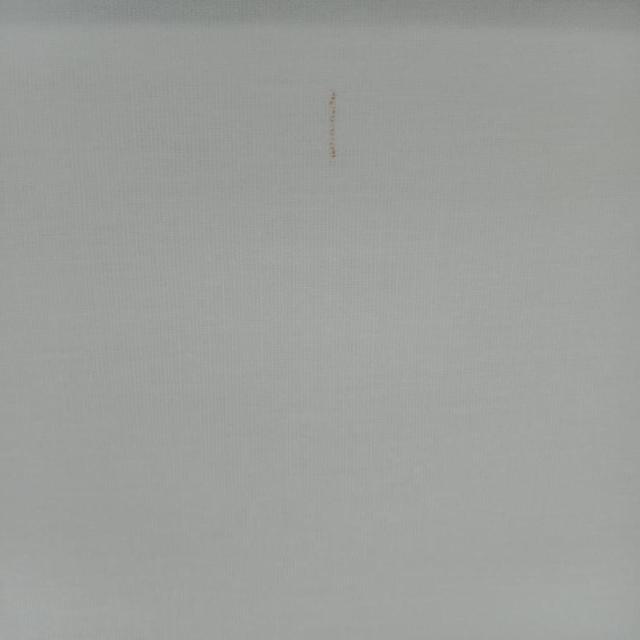contamination: (315, 86, 348, 164)
